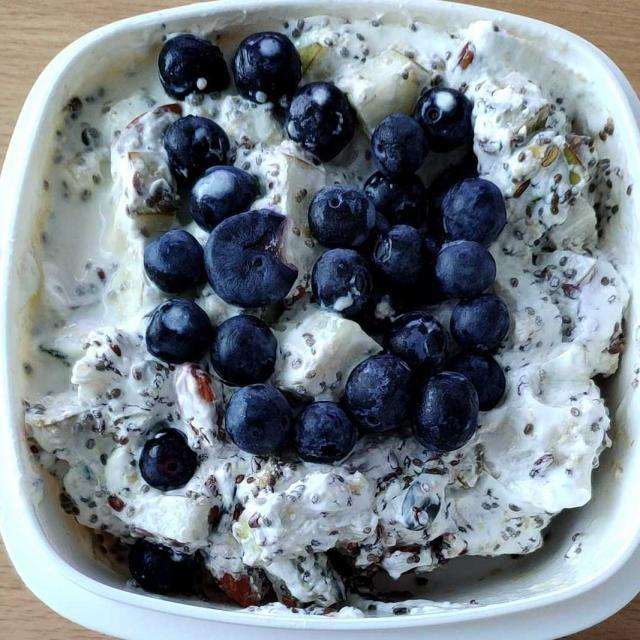blueberries: (130, 27, 515, 488)
